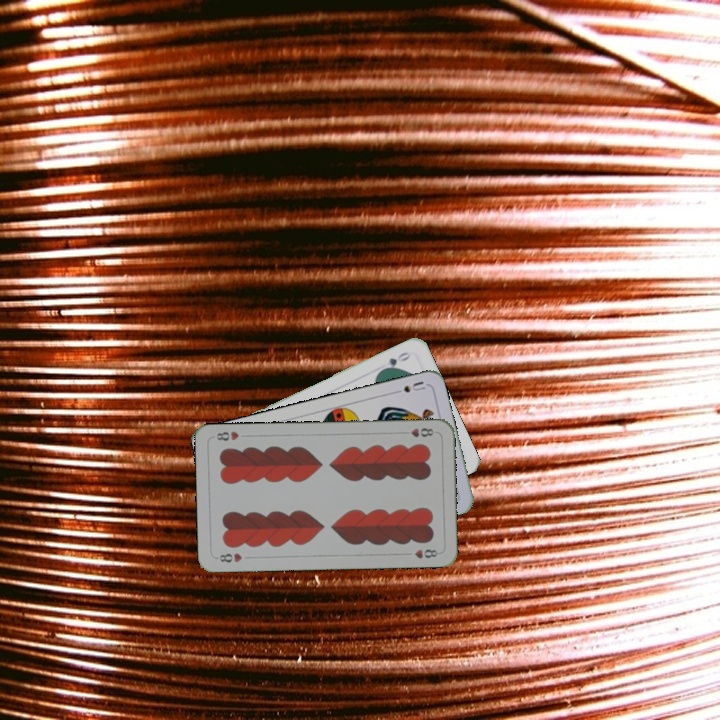GO: (377, 348, 413, 374)
H8: (212, 549, 245, 565), (407, 424, 436, 440)
SU: (389, 377, 428, 397)
